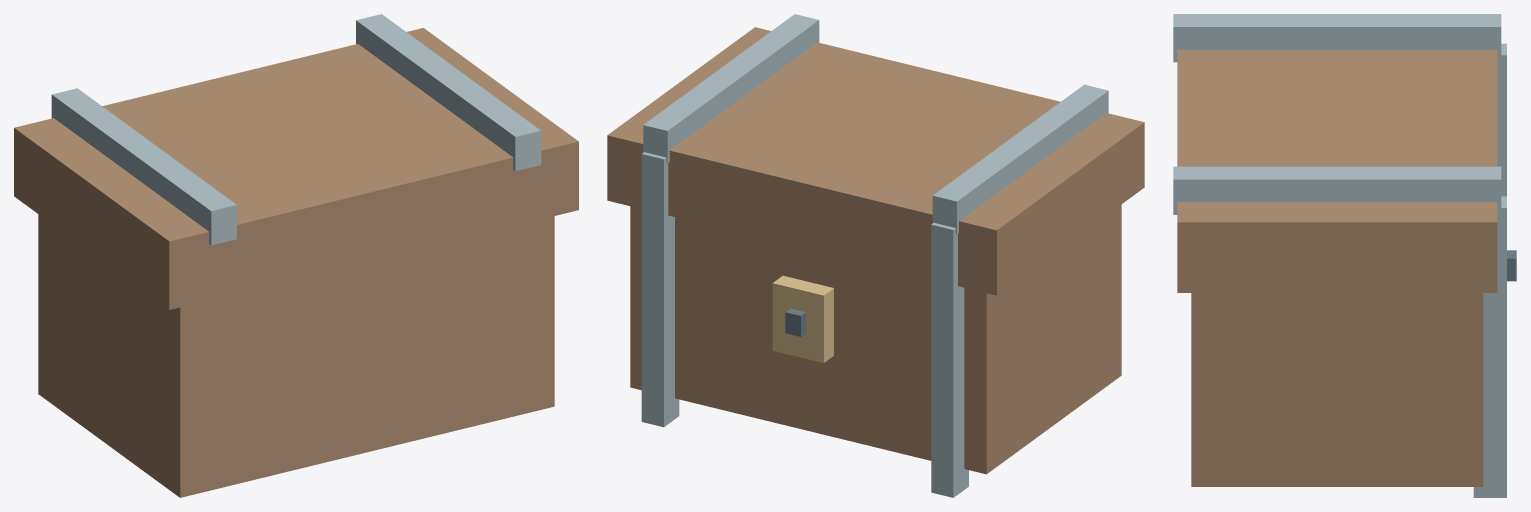
Rendered from rpg-treasure-chest.gltf.
3 views of the same model, side by side, from view 1: azimuth 30°, elevation 25°; view 2: azimuth 150°, elevation 25°; view 3: azimuth 270°, elevation 25° (orthographic). The views are drawn at different scales.
Parts seen in each view (by area): view 1: Mesh 0, Mesh 1, Mesh 5, Mesh 3; view 2: Mesh 1, Mesh 0, Mesh 4, Mesh 2, Mesh 5, Mesh 3, Mesh 6; view 3: Mesh 1, Mesh 0, Mesh 5, Mesh 3, Mesh 4, Mesh 2.
Boxes of the visible parts, x1,y1,x2,y2 form: Mesh 0: [38, 214, 554, 497]; Mesh 1: [14, 28, 578, 309]; Mesh 5: [356, 14, 541, 171]; Mesh 3: [51, 88, 236, 245]; Mesh 1: [607, 27, 1144, 295]; Mesh 0: [630, 204, 1121, 474]; Mesh 4: [641, 152, 679, 427]; Mesh 2: [931, 223, 968, 497]; Mesh 5: [643, 14, 819, 163]; Mesh 3: [932, 84, 1108, 233]; Mesh 6: [772, 275, 833, 362]; Mesh 1: [1177, 49, 1497, 292]; Mesh 0: [1191, 293, 1483, 486]; Mesh 5: [1173, 166, 1501, 214]; Mesh 3: [1173, 14, 1501, 62]; Mesh 4: [1473, 196, 1506, 497]; Mesh 2: [1497, 43, 1506, 196].
Size of the model in its own units: 1.75 by 1.26 by 1.23.
